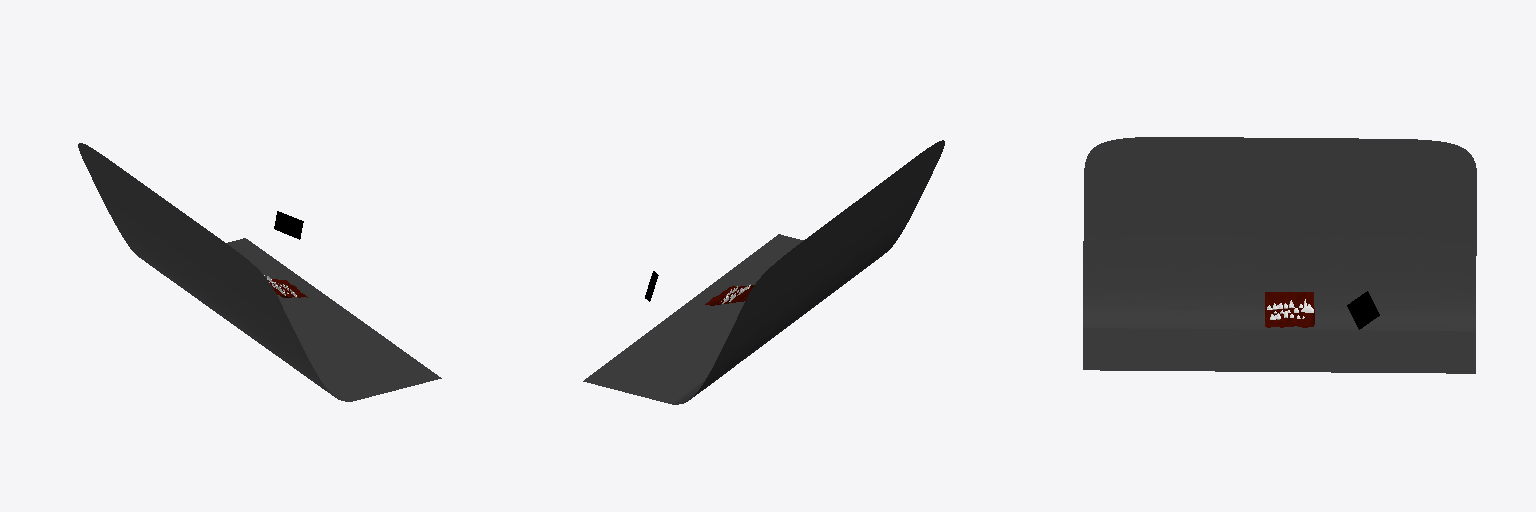
Rendered from snow-new.obj.
3 views of the same model, side by side, from view 1: azimuth 30°, elevation 25°; view 2: azimuth 150°, elevation 25°; view 3: azimuth 270°, elevation 25° (orthographic).
Visible parts, largest first — view 1: pen_4.004_stilllife.003, pen_4.003_stilllife.002, pen_4.002_stilllife.001; view 2: pen_4.004_stilllife.003, pen_4.003_stilllife.002; view 3: pen_4.004_stilllife.003, pen_4.003_stilllife.002, Plane, pen_4.002_stilllife.001.
Part boxes in pixels (left/top/right/bottom): pen_4.004_stilllife.003: left=78, top=143, right=352, bottom=401; pen_4.003_stilllife.002: left=227, top=238, right=441, bottom=400; pen_4.002_stilllife.001: left=274, top=211, right=303, bottom=239; pen_4.004_stilllife.003: left=672, top=140, right=944, bottom=404; pen_4.003_stilllife.002: left=583, top=234, right=803, bottom=403; pen_4.004_stilllife.003: left=1083, top=137, right=1476, bottom=331; pen_4.003_stilllife.002: left=1083, top=328, right=1475, bottom=373; Plane: left=1265, top=292, right=1314, bottom=327; pen_4.002_stilllife.001: left=1347, top=291, right=1379, bottom=329.
Size of the model in its own units: 310 by 258 by 604.